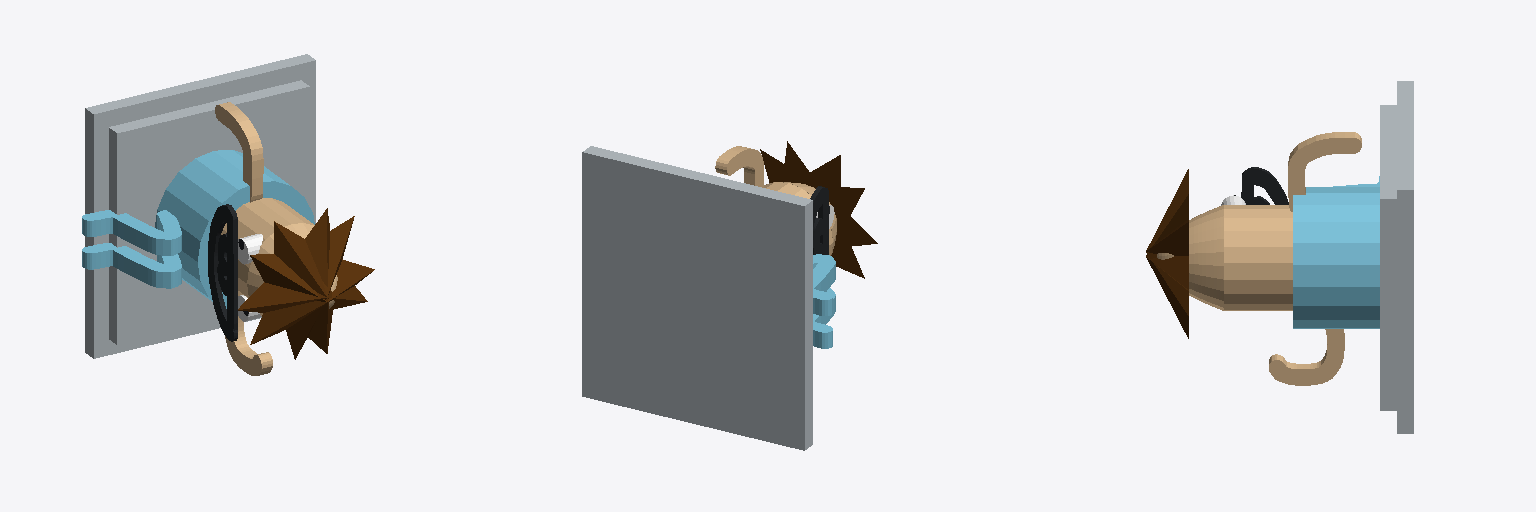
File: tinker.obj
3 renders of one model, left to right at view 1: azimuth 30°, elevation 25°; view 2: azimuth 150°, elevation 25°; view 3: azimuth 270°, elevation 25°, orthographic.
Visible parts, largest first — view 1: obj_0; view 2: obj_0; view 3: obj_0.
Boxes of the visible parts, x1=… form: obj_0: x1=82, y1=54, x2=374, y2=375; obj_0: x1=582, y1=141, x2=877, y2=450; obj_0: x1=1146, y1=81, x2=1413, y2=433.
Bounding box in the file's own units: 51 × 51 × 50.